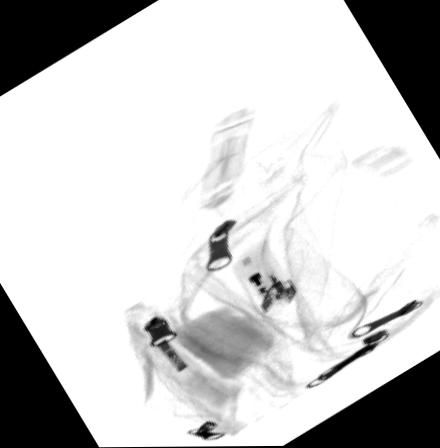Lighter: (231, 241, 297, 314)
